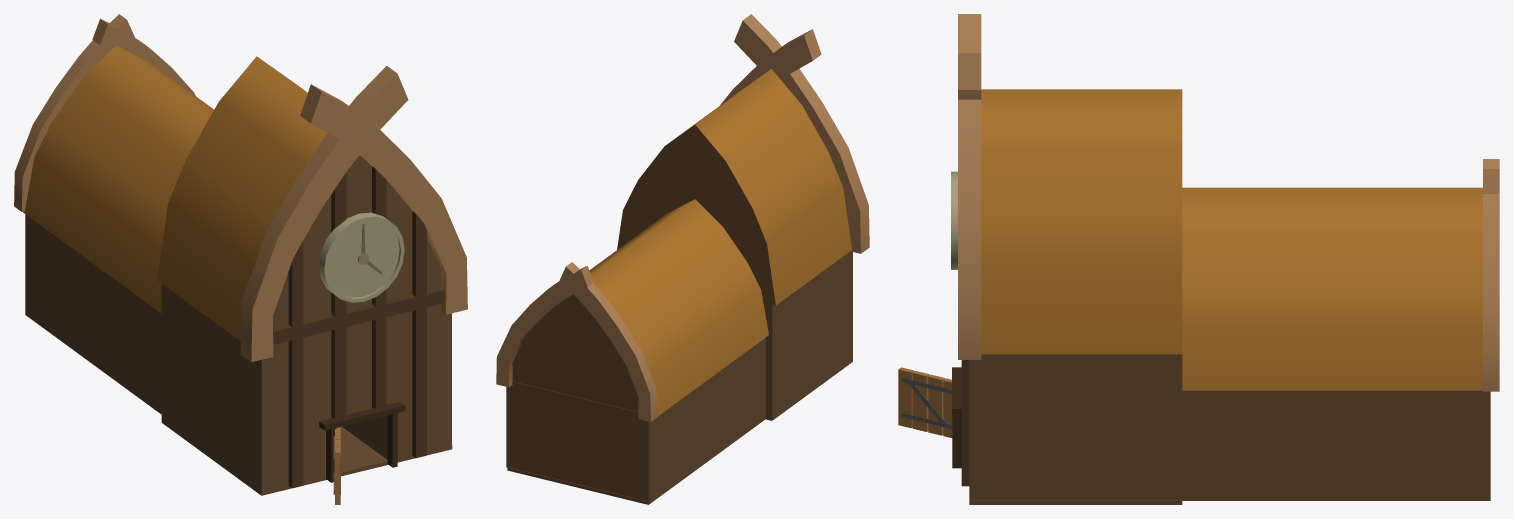
Rendered from Major_Hut.fbx.
3 renders of one model, left to right at view 1: azimuth 30°, elevation 25°; view 2: azimuth 150°, elevation 25°; view 3: azimuth 270°, elevation 25°, orthographic. The views are drawn at different scales.
Parts seen in each view (by area): view 1: Major_Building; view 2: Major_Building; view 3: Major_Building.
Boxes of the visible parts, x1=… form: Major_Building: x1=14, y1=14, x2=467, y2=504; Major_Building: x1=496, y1=14, x2=869, y2=504; Major_Building: x1=898, y1=14, x2=1499, y2=504.
Size of the model in its own units: 4.36 by 7.59 by 9.84.
